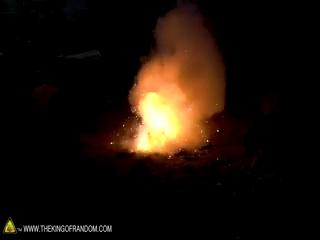Fire: (130, 97, 185, 151)
